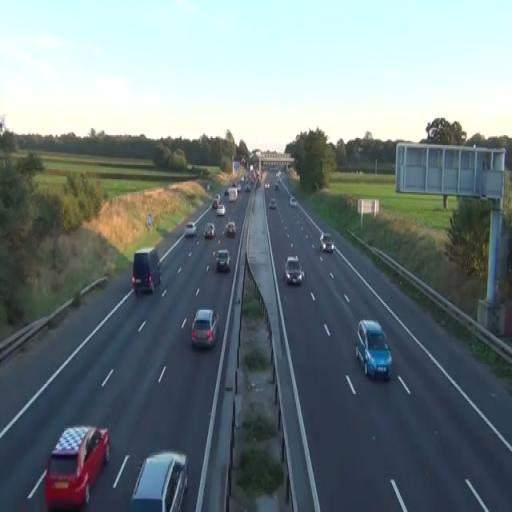Car: (44, 424, 111, 510), (128, 450, 190, 511), (356, 320, 392, 380), (189, 307, 220, 350), (284, 254, 304, 286), (216, 249, 230, 273), (320, 233, 334, 252), (204, 222, 216, 240), (185, 221, 197, 238), (226, 222, 236, 237)
Truck: (132, 247, 161, 295)
